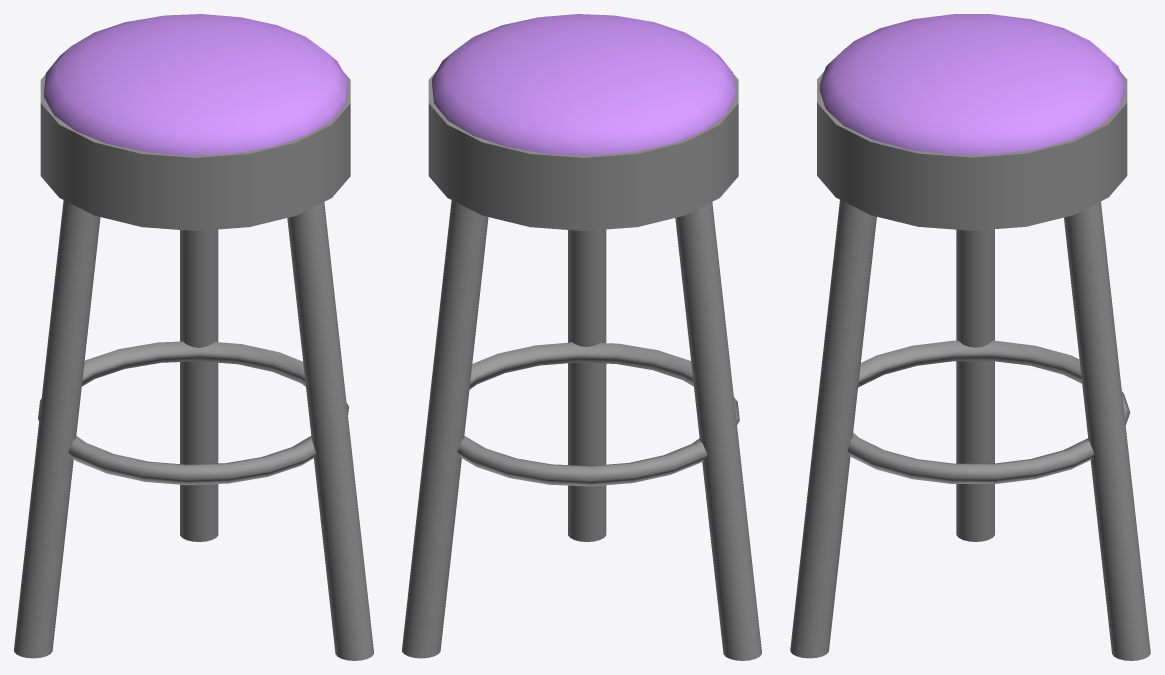
Rendered from taburete.FBX.
3 renders of one model, left to right at view 1: azimuth 30°, elevation 25°; view 2: azimuth 150°, elevation 25°; view 3: azimuth 270°, elevation 25°, orthographic.
Visible parts, largest first — view 1: Sphere001; view 2: Sphere001; view 3: Sphere001.
Part boxes in pixels (box(x1,y1,x2,y2)): Sphere001: box(14, 14, 373, 660); Sphere001: box(402, 14, 761, 660); Sphere001: box(790, 14, 1150, 660).
Bounding box in the file's own units: 34.36 × 58.98 × 34.12.
